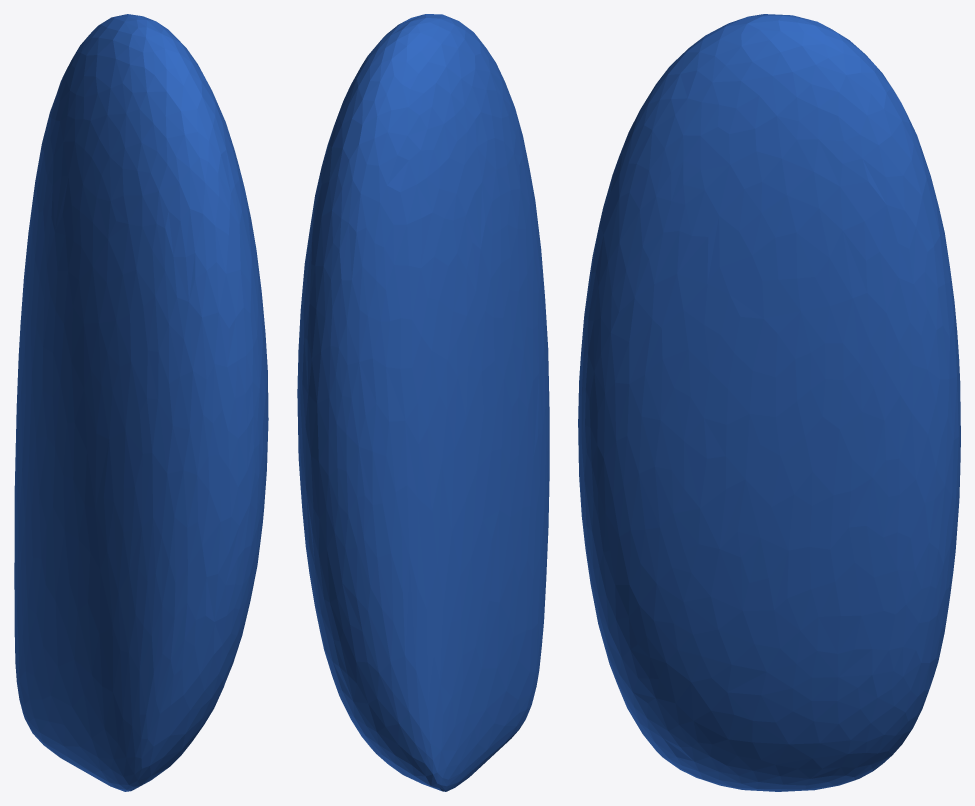
3 renders of one model, left to right at view 1: azimuth 30°, elevation 25°; view 2: azimuth 150°, elevation 25°; view 3: azimuth 270°, elevation 25°, orthographic. The views are drawn at different scales.
Visible parts, largest first — view 1: 523_Cube.2111; view 2: 523_Cube.2111; view 3: 523_Cube.2111.
Part boxes in pixels (x1=…): 523_Cube.2111: x1=14, y1=14, x2=268, y2=791; 523_Cube.2111: x1=297, y1=14, x2=549, y2=791; 523_Cube.2111: x1=578, y1=14, x2=960, y2=791.
Bounding box in the file's own units: 2.61 × 11.01 × 4.84.
